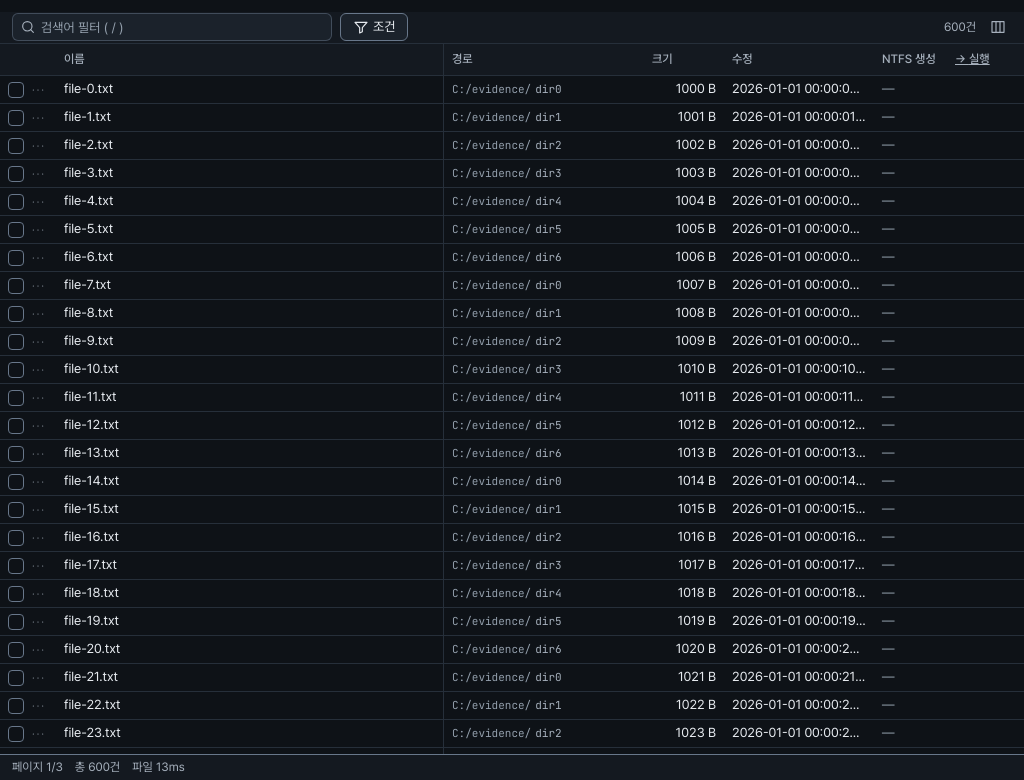
Test case: DataGrid filter › filters the loaded rows client-side and says so in the footer
In the search field with placeholder "검색어 필터 ( / )": (172, 27) [12, 13, 332, 41], type "file-12"
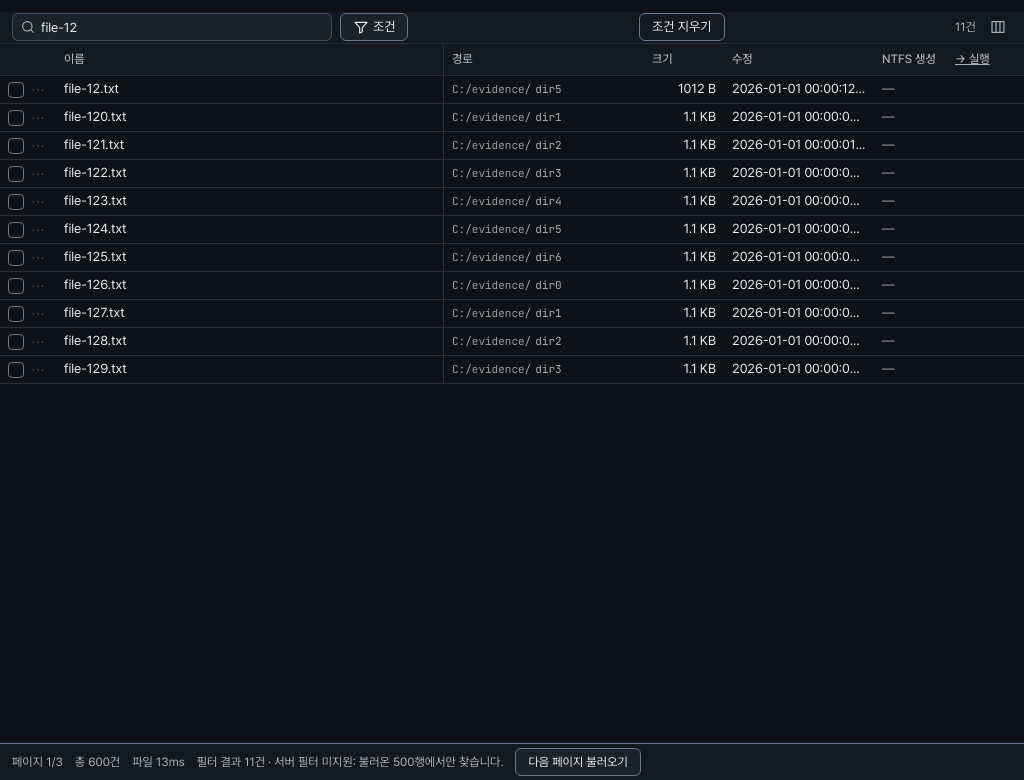
expect the text "필터 결과 11건 · 서버 필터 미지원: 불러온 500행에서만 찾습니다." is shown: met, box [197, 754, 503, 770]
Clear the search field with placeholder "검색어 필터 ( / )": (172, 27) [12, 13, 332, 41]
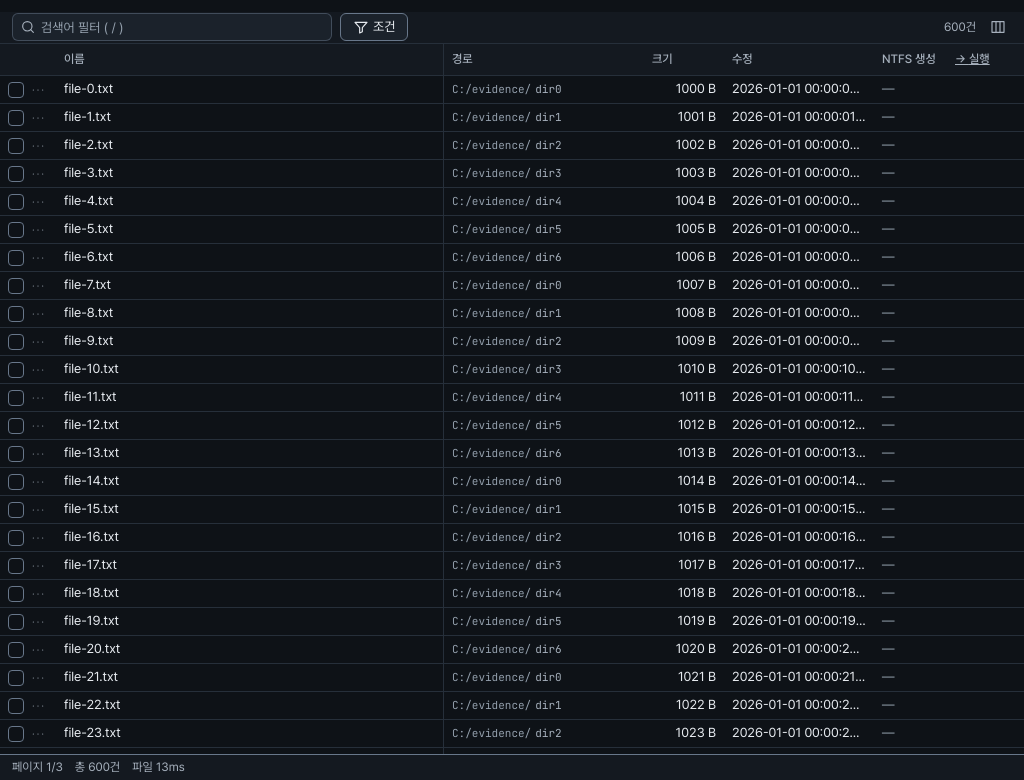
expect the text "서버 필터 미지원" is gone: met
